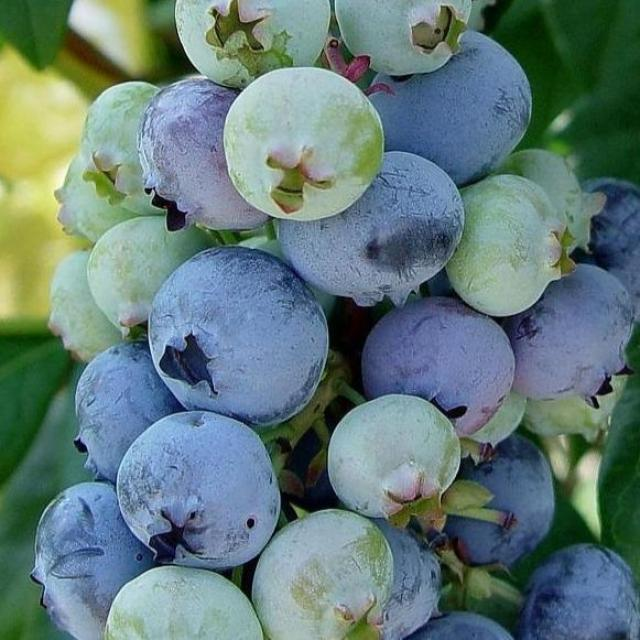BlueBerry - v1: (142, 241, 331, 431), (272, 144, 473, 315), (110, 402, 290, 581), (218, 55, 393, 233), (362, 21, 538, 195), (126, 70, 276, 242), (355, 291, 522, 445), (24, 473, 166, 640), (245, 501, 413, 640), (447, 164, 585, 332), (503, 252, 640, 420), (321, 390, 474, 535), (79, 203, 229, 338), (64, 336, 193, 490), (439, 428, 563, 580), (166, 2, 340, 96), (77, 78, 182, 232), (93, 559, 277, 640), (512, 531, 640, 640), (563, 166, 640, 328), (337, 0, 484, 83), (34, 246, 137, 364), (367, 508, 450, 640), (51, 138, 138, 258), (399, 601, 521, 640)
